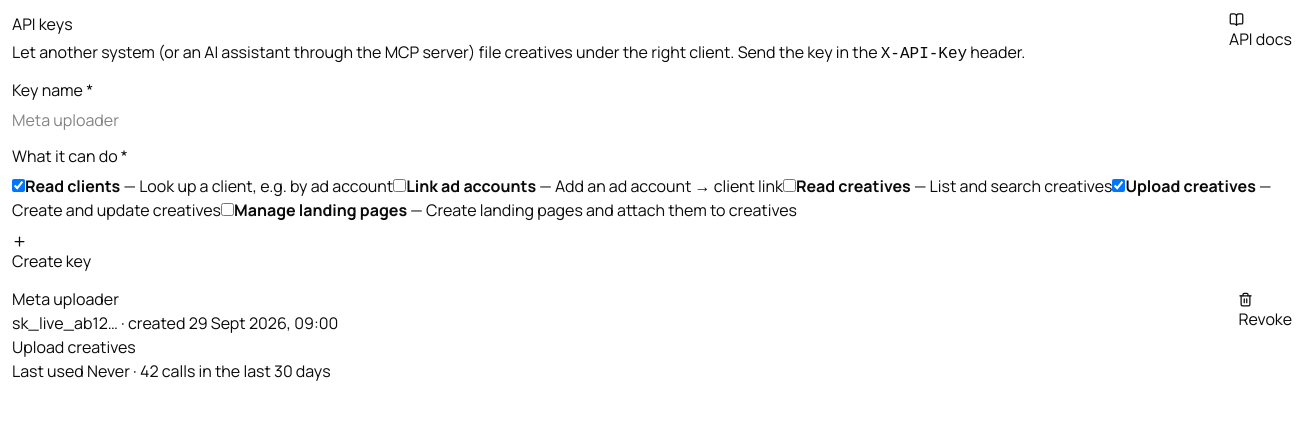
Test case: ApiKeysSettings › asks for a name and at least one permission
This screenshot has width=1304, height=428.
Click the checkbox labelled "Read clients — Look up a client, e.g. by ad account" at [18, 186], box [12,179,25,192]
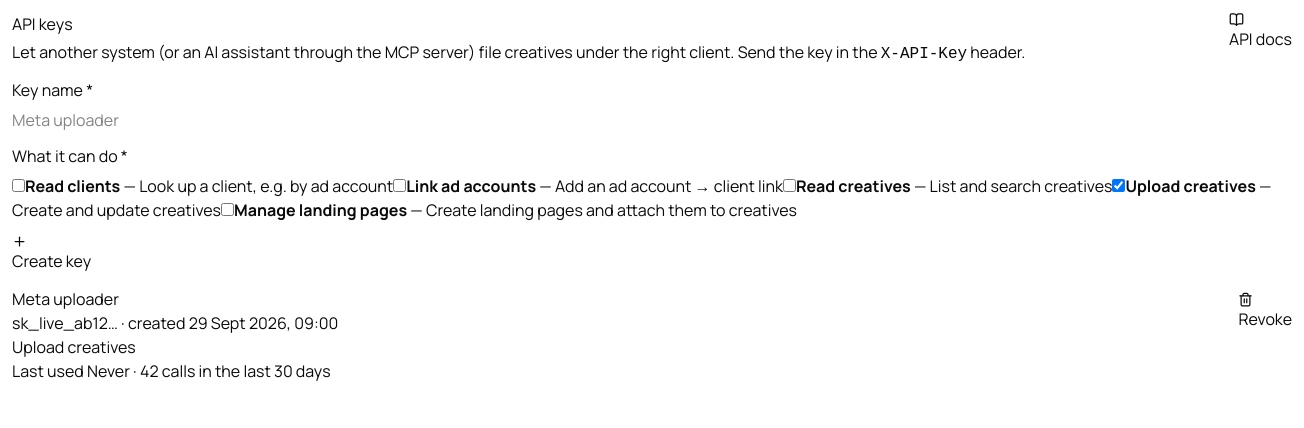
Click the checkbox labelled "Upload creatives — Create and update creatives" at [1119, 186], box [1112,179,1125,192]
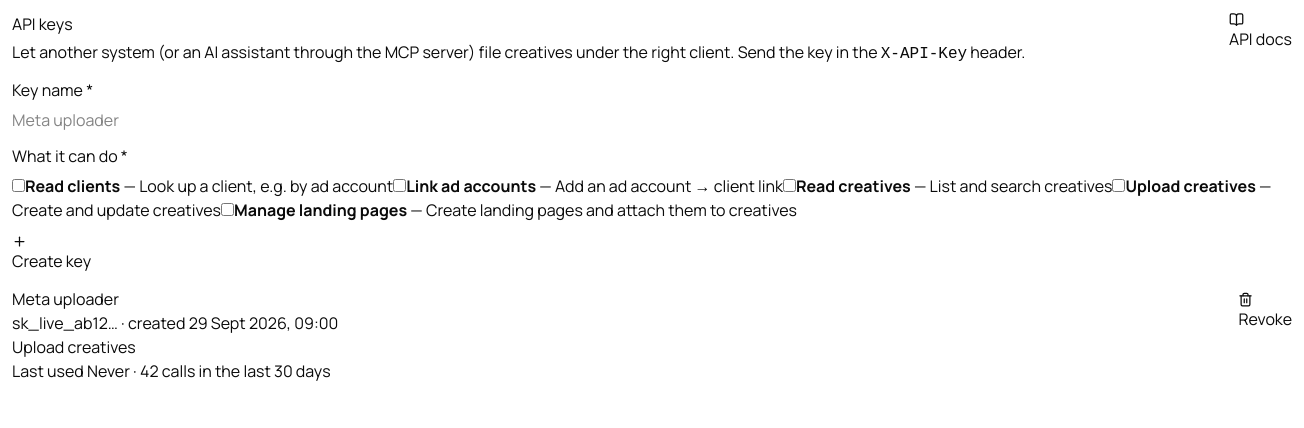
Click the button "Create key" at [52, 254], box [12,234,91,273]
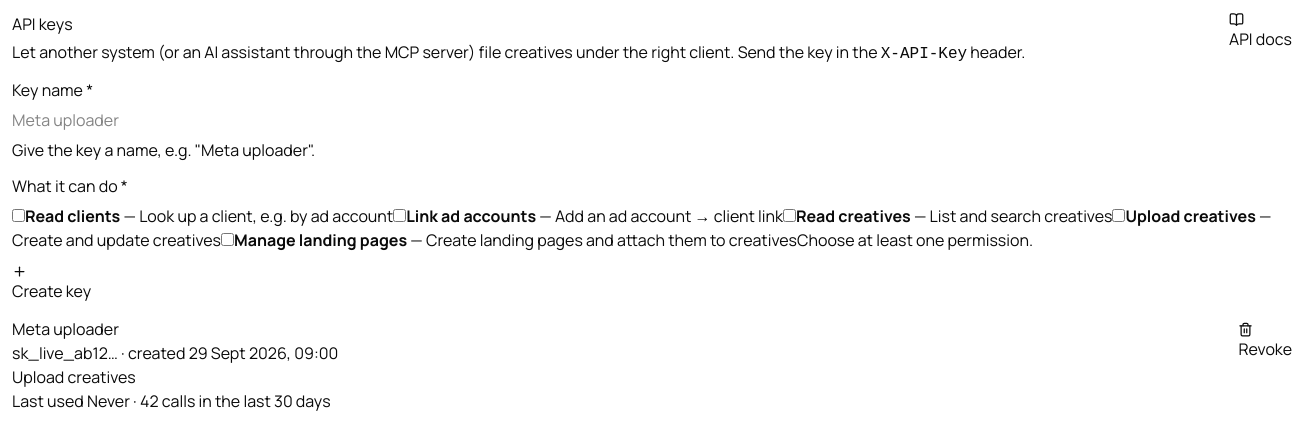
Check: the text "Give the key a name, e.g. \"Meta uploader\"." is shown, box [12,139,315,161]
Check: the text "Choose at least one permission." is shown, box [797,229,1033,251]
